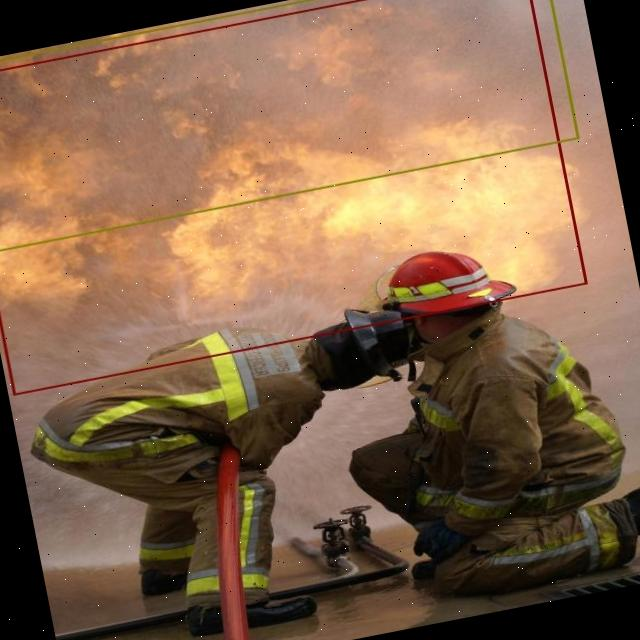fire: (0, 0, 588, 395)
smoke: (0, 0, 579, 253)
